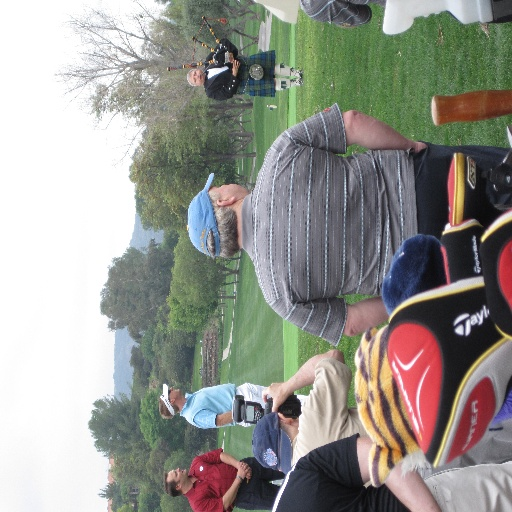hand: (260, 381, 289, 414), (237, 460, 250, 478), (413, 141, 427, 154), (232, 56, 239, 72), (245, 466, 252, 480)
